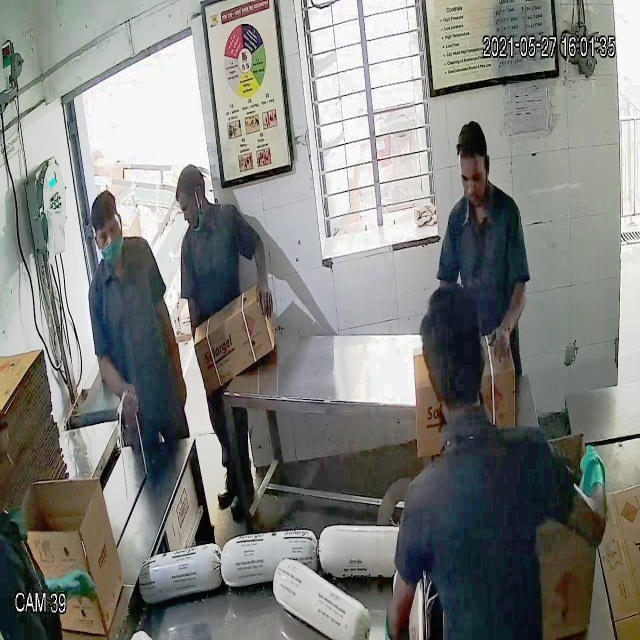Sin_gafas: (88, 214, 128, 251), (457, 160, 493, 193)
